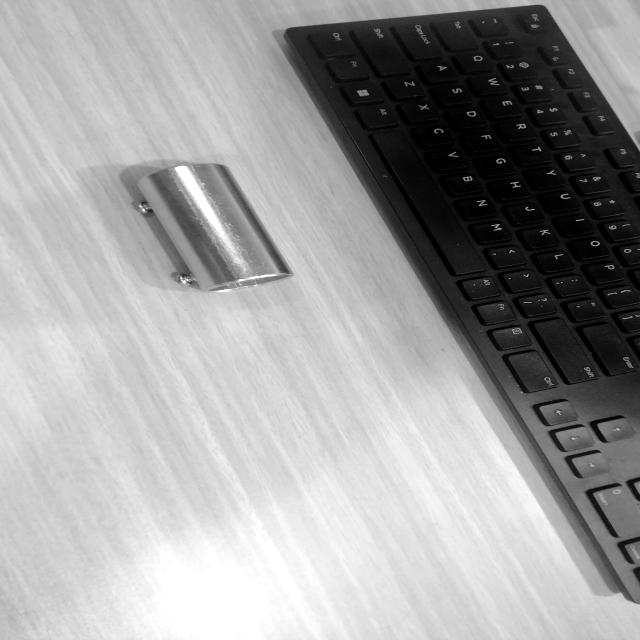Co_Lon: (119, 136, 294, 331)
